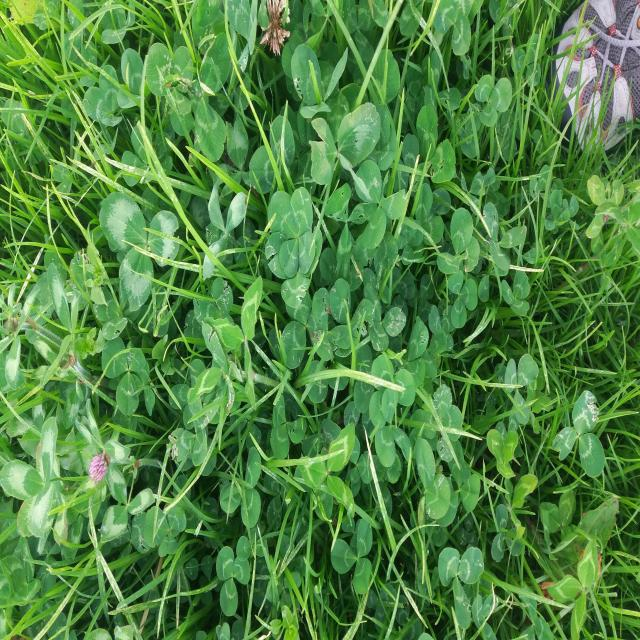Four Leaf Clover: (268, 186, 316, 279)
